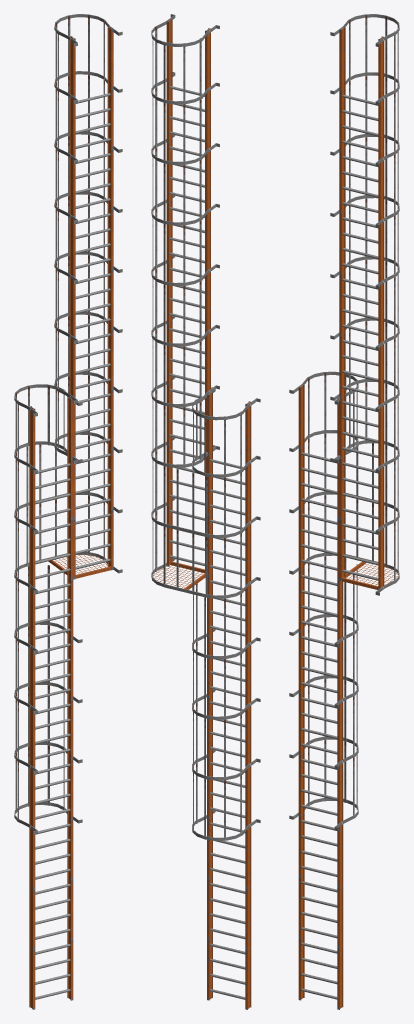
The model's file is LadderSection.003.fbx.
3 views of the same model, side by side, from view 1: azimuth 30°, elevation 25°; view 2: azimuth 150°, elevation 25°; view 3: azimuth 330°, elevation 25° (orthographic). The views are drawn at different scales.
Parts seen in each view (by area): view 1: Ladder_Section.003_LOD0; view 2: Ladder_Section.003_LOD0; view 3: Ladder_Section.003_LOD0.
Boxes of the visible parts, x1=… form: Ladder_Section.003_LOD0: x1=14, y1=14, x2=122, y2=1009; Ladder_Section.003_LOD0: x1=151, y1=14, x2=260, y2=1009; Ladder_Section.003_LOD0: x1=289, y1=14, x2=399, y2=1009.
Size of what is drawn, in the model's own units: 1.55 by 16 by 0.9238.
